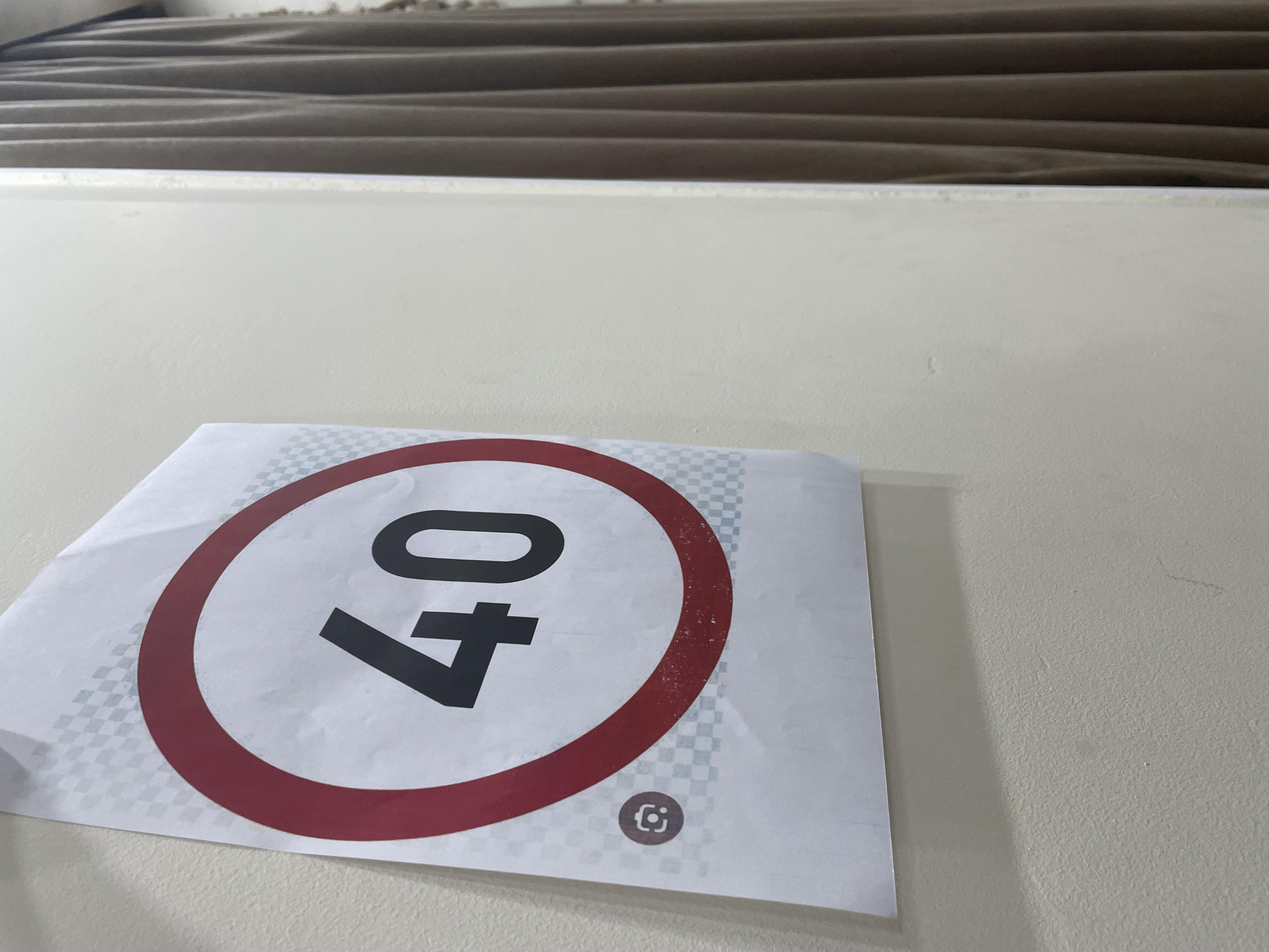40-Speed: (139, 78, 700, 568)
